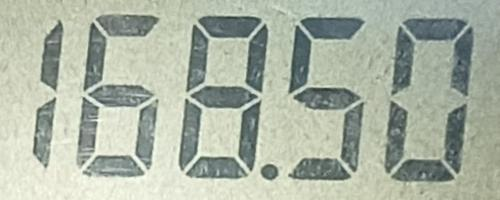.: (259, 163, 281, 181)
